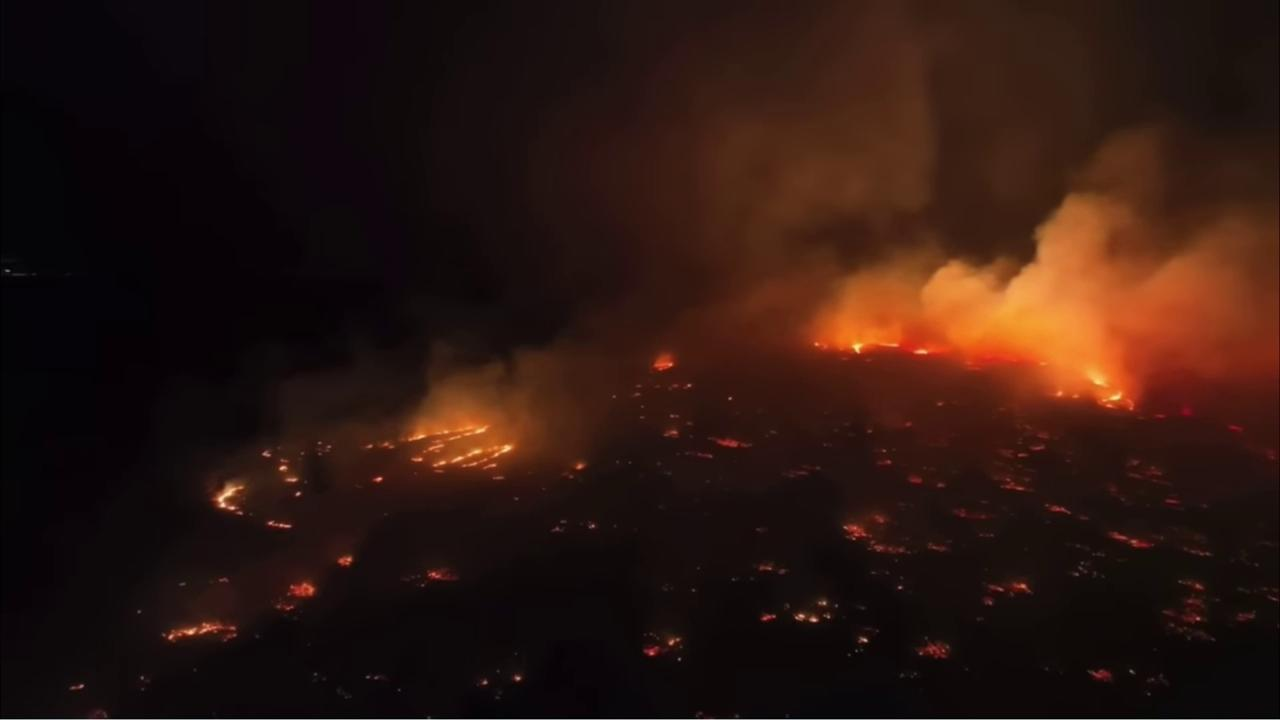fire: (364, 423, 514, 473), (1158, 577, 1221, 646), (835, 510, 914, 558), (1053, 368, 1137, 412), (811, 334, 932, 358), (155, 618, 239, 644), (994, 426, 1051, 462), (269, 577, 319, 616), (1122, 454, 1174, 488), (981, 578, 1035, 609), (967, 351, 1050, 371), (210, 481, 251, 519), (1108, 527, 1158, 551), (795, 594, 834, 624), (913, 635, 951, 662), (705, 432, 753, 449), (780, 462, 823, 480), (948, 505, 996, 521), (426, 566, 462, 584), (751, 560, 789, 576), (995, 479, 1037, 493), (1231, 608, 1258, 627), (1083, 668, 1115, 683), (1044, 500, 1073, 516), (264, 519, 294, 534), (647, 357, 676, 372), (927, 539, 953, 554), (335, 552, 356, 570), (548, 517, 568, 535), (640, 643, 661, 657), (660, 426, 681, 439), (664, 634, 683, 647), (66, 681, 86, 692), (758, 612, 779, 622), (874, 457, 893, 468), (903, 475, 926, 484), (855, 635, 874, 645), (1227, 424, 1250, 432), (1163, 498, 1183, 507), (260, 447, 274, 459), (574, 460, 588, 471), (1181, 406, 1195, 417), (584, 521, 599, 531), (366, 674, 381, 683), (371, 476, 387, 484), (284, 476, 300, 484), (1155, 412, 1169, 421), (292, 490, 303, 498), (279, 465, 290, 473), (479, 678, 490, 686), (514, 674, 524, 682), (689, 588, 699, 595), (397, 686, 403, 694)
smoke: (118, 0, 1280, 678)
